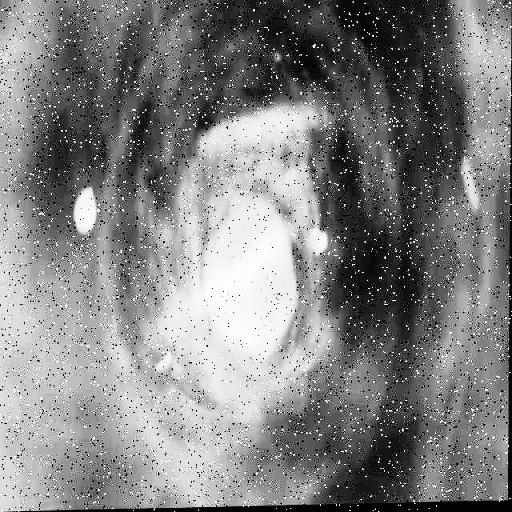balloon: (74, 189, 97, 231), (310, 228, 329, 258)
